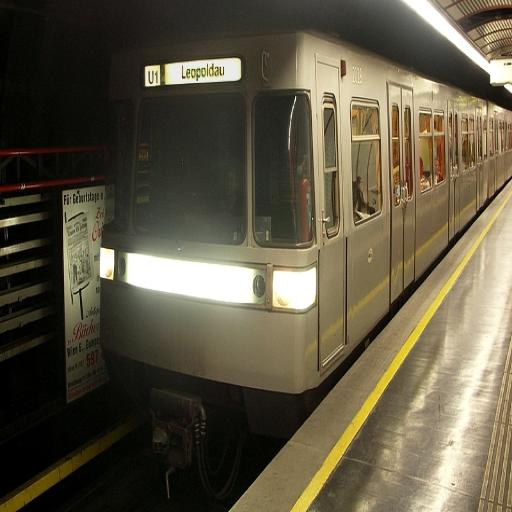Silberpfeil: (96, 20, 512, 404)
